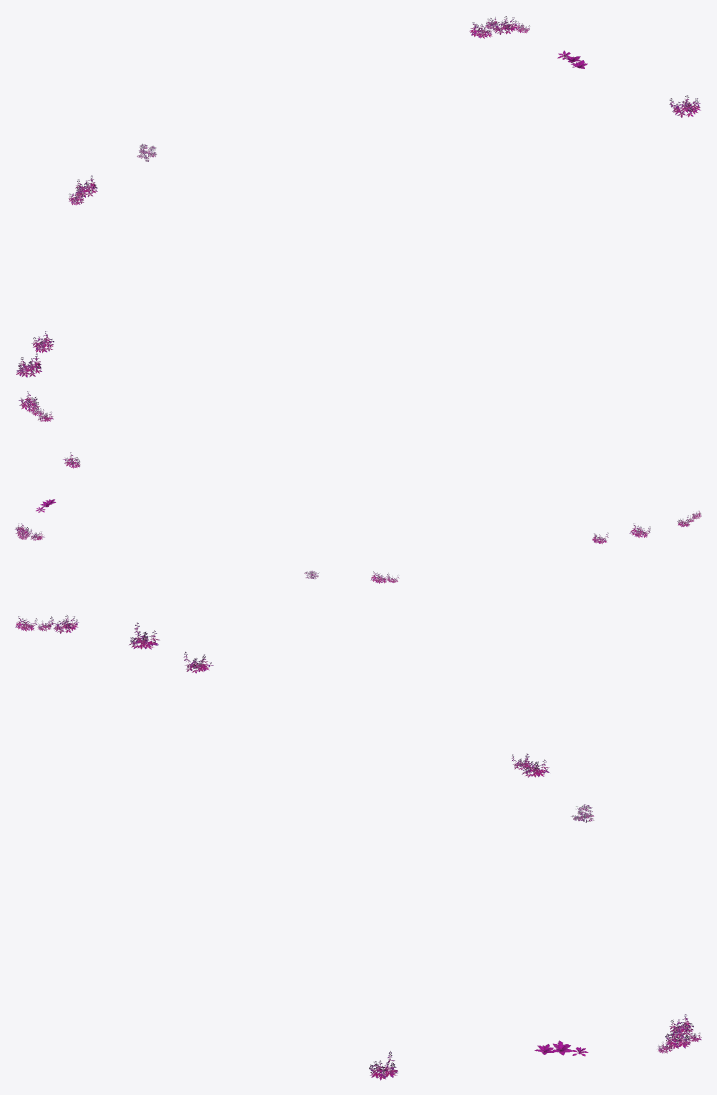
Rendered from zhibei12_1.fbx.
The picture shows the model from 3 angles, top to bottom: view 1: azimuth 30°, elevation 25°; view 2: azimuth 150°, elevation 25°; view 3: azimuth 270°, elevation 25°; orthographic projection. The views are drawn at different scales.
Parts seen in each view (by area): view 1: zhibei12_1; view 2: zhibei12_1; view 3: zhibei12_1.
Boxes of the visible parts, box(x1,y1,x2,y2) form: zhibei12_1: box(16, 16, 700, 421); zhibei12_1: box(15, 452, 701, 583); zhibei12_1: box(15, 615, 701, 1080).
Size of the model in its own units: 9883 by 249 by 6251.
